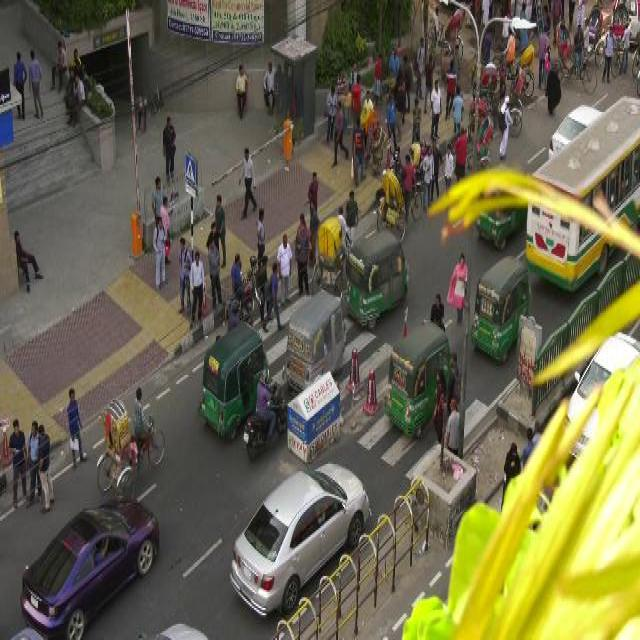10: (244, 367, 286, 465)
13: (95, 376, 169, 502), (374, 148, 422, 242), (307, 212, 349, 314), (552, 20, 598, 94)
17: (196, 313, 270, 441), (383, 316, 449, 444), (468, 250, 532, 369), (282, 284, 346, 394), (342, 226, 408, 332)
5: (228, 459, 372, 622), (18, 492, 160, 636)
Motorcycle: (426, 10, 464, 58)
